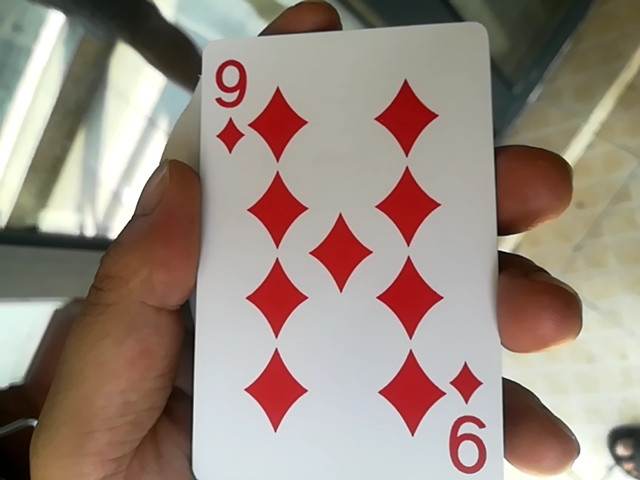fk 9: (178, 17, 506, 478)
